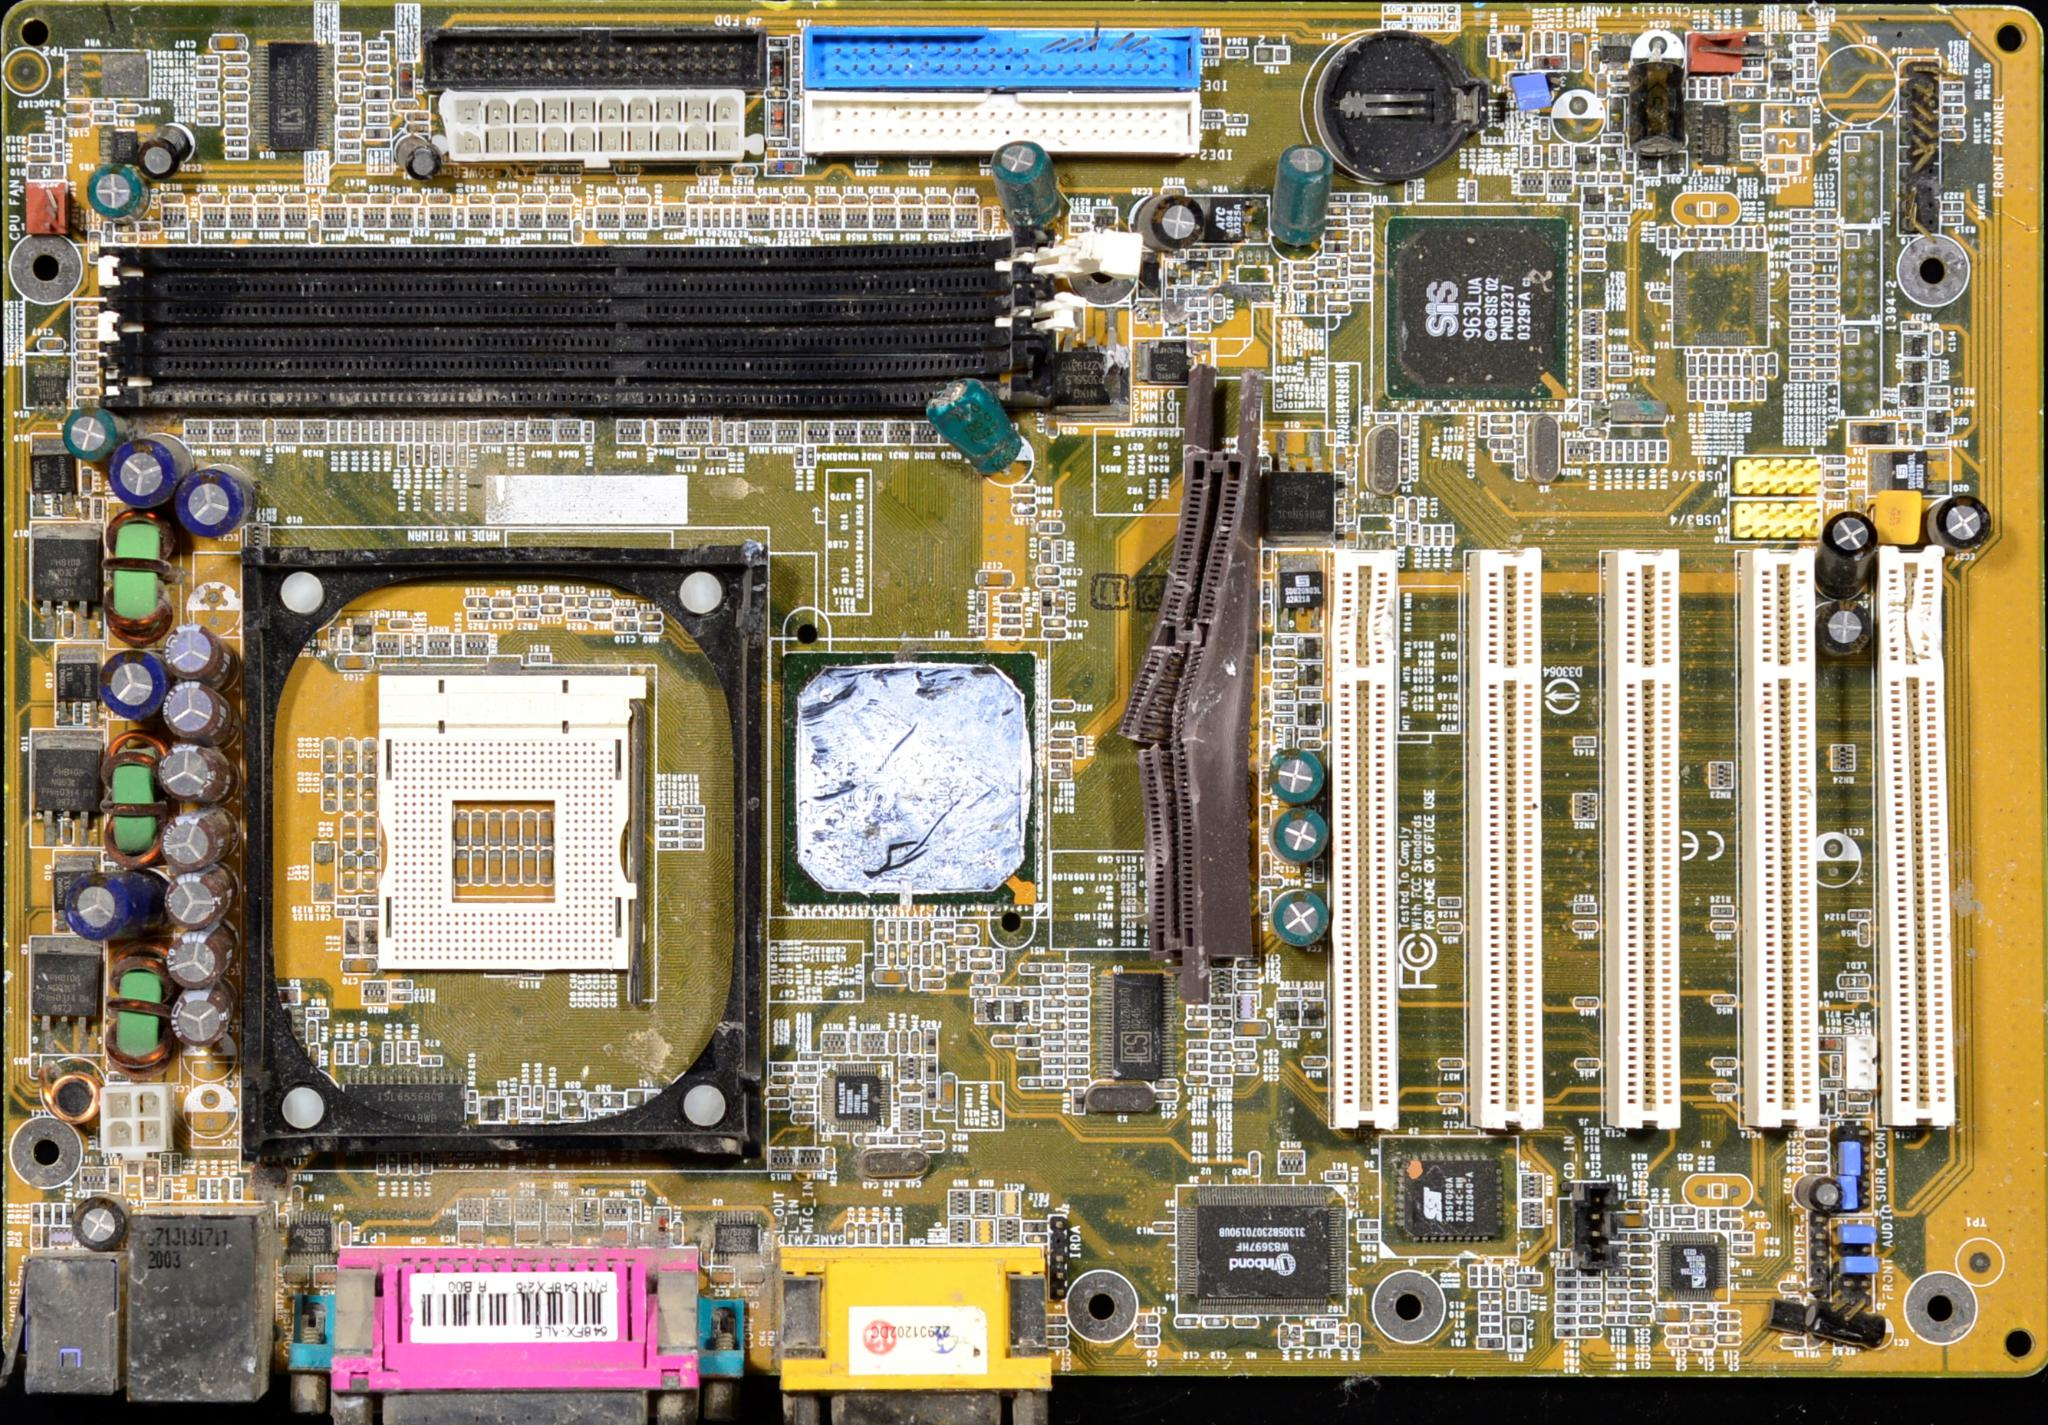Capacitor Jumper: (179, 462, 246, 546), (106, 437, 179, 507), (96, 650, 168, 719), (156, 739, 226, 801), (56, 409, 126, 470), (159, 621, 223, 681), (1270, 804, 1329, 868), (1271, 745, 1329, 806), (1271, 890, 1331, 943), (160, 683, 215, 737), (831, 1075, 885, 1117), (311, 839, 336, 899), (207, 33, 249, 51), (335, 653, 375, 672), (339, 856, 358, 890), (361, 739, 378, 775), (341, 817, 358, 851), (344, 957, 377, 974), (342, 817, 358, 853), (1654, 1307, 1690, 1322), (324, 776, 339, 811), (361, 779, 377, 814), (322, 739, 338, 773), (873, 969, 907, 983), (1234, 1021, 1268, 1035), (1609, 96, 1623, 131), (345, 776, 358, 814), (1572, 34, 1584, 70), (363, 815, 373, 854), (34, 338, 65, 350), (344, 742, 356, 773), (358, 1039, 370, 1067), (1583, 226, 1608, 240), (224, 67, 252, 79), (1323, 229, 1349, 241), (118, 104, 143, 117), (1134, 1324, 1158, 1336), (1556, 30, 1569, 53), (896, 940, 907, 966), (1804, 1139, 1830, 1150), (65, 101, 90, 112), (1632, 1290, 1654, 1302), (1134, 1336, 1159, 1347), (1057, 590, 1066, 618), (1712, 1058, 1735, 1069), (224, 104, 247, 115), (65, 117, 89, 128), (1631, 1254, 1654, 1265), (1203, 1315, 1226, 1325), (366, 64, 389, 75), (1026, 1232, 1046, 1245), (1692, 1322, 1712, 1335), (1043, 618, 1069, 627), (1438, 1058, 1460, 1069), (632, 1199, 643, 1221), (1690, 1338, 1712, 1349), (1324, 216, 1346, 227), (1327, 303, 1349, 314), (1804, 1153, 1829, 1162), (1667, 1325, 1692, 1335), (1038, 565, 1063, 574), (1695, 1311, 1715, 1322), (1349, 263, 1369, 274), (1327, 292, 1348, 303), (1544, 31, 1555, 51), (1597, 75, 1606, 98), (1805, 1117, 1829, 1126), (1629, 1268, 1653, 1277), (1629, 1279, 1653, 1288), (1172, 1318, 1200, 1325), (1717, 1335, 1740, 1344), (1646, 439, 1656, 462), (1573, 997, 1600, 1005), (1804, 1164, 1830, 1171), (224, 54, 251, 62), (1438, 923, 1460, 932), (1018, 1025, 1036, 1036), (1438, 1094, 1460, 1103), (845, 1223, 854, 1245), (1351, 230, 1360, 252), (1315, 292, 1324, 314), (1573, 921, 1598, 929), (887, 943, 895, 968), (223, 129, 247, 137), (336, 54, 361, 62), (339, 72, 364, 79), (1069, 986, 1089, 996), (993, 1035, 1013, 1044), (881, 1223, 890, 1243), (1317, 269, 1337, 278), (1293, 271, 1313, 280), (1931, 333, 1941, 353), (1273, 680, 1293, 689), (1687, 76, 1695, 100), (923, 980, 946, 988), (1710, 996, 1734, 1003), (1805, 1129, 1829, 1137), (1628, 1315, 1651, 1322), (1279, 1325, 1287, 1349), (1292, 1325, 1299, 1349), (1636, 179, 1643, 202), (1362, 230, 1369, 254), (1293, 282, 1317, 289), (1134, 1313, 1153, 1322), (367, 75, 389, 82), (227, 95, 249, 103), (1713, 1086, 1735, 1094), (1626, 1201, 1648, 1209), (1629, 1305, 1651, 1313), (1234, 1318, 1256, 1325), (1349, 254, 1371, 261), (1807, 58, 1815, 79), (926, 968, 943, 977), (876, 919, 884, 940), (1317, 1321, 1337, 1329), (1659, 442, 1667, 462), (1629, 1246, 1654, 1252), (224, 82, 247, 89), (1629, 1234, 1653, 1240), (1349, 1327, 1357, 1346), (1326, 205, 1345, 213), (1348, 207, 1371, 213), (1533, 33, 1539, 56), (1712, 924, 1732, 930), (339, 131, 359, 137), (1583, 263, 1603, 269), (1592, 51, 1598, 72), (1625, 152, 1631, 171), (1293, 263, 1315, 268), (1340, 1325, 1345, 1346), (1578, 1059, 1604, 1063)
Connector: (1877, 546, 1961, 1133), (1738, 549, 1818, 1128), (1464, 548, 1542, 1133), (1600, 548, 1676, 1133), (103, 359, 1019, 404), (1331, 551, 1402, 1126), (93, 247, 1010, 286), (98, 288, 1016, 322), (104, 328, 1016, 353), (423, 28, 766, 89)
IC: (1383, 216, 1562, 401), (1189, 1199, 1345, 1307), (1391, 1151, 1505, 1243), (1097, 972, 1175, 1078), (268, 40, 317, 149), (34, 535, 101, 604), (37, 750, 96, 815), (1667, 1241, 1715, 1294), (56, 661, 93, 700), (28, 370, 65, 406), (980, 569, 1013, 585), (942, 1073, 952, 1108), (1015, 484, 1038, 495)
Resistor Jumper: (363, 980, 388, 1005), (703, 445, 730, 459), (1857, 921, 1869, 949), (674, 445, 697, 459), (1236, 1063, 1257, 1077), (303, 1007, 330, 1017), (1488, 439, 1514, 450), (1604, 1243, 1629, 1254), (770, 1075, 794, 1086), (795, 1075, 819, 1086), (1503, 1266, 1514, 1290), (1478, 1311, 1502, 1322), (1583, 215, 1606, 226), (1813, 289, 1836, 300), (430, 443, 440, 467), (398, 443, 409, 467), (1225, 47, 1248, 58), (1050, 700, 1074, 711), (792, 445, 805, 465), (1259, 804, 1268, 831), (1276, 1030, 1298, 1041), (1066, 1031, 1088, 1042), (335, 1042, 345, 1064), (1043, 1053, 1064, 1064), (772, 1063, 794, 1073), (1720, 1220, 1741, 1231), (1478, 1266, 1489, 1288), (1609, 366, 1631, 376), (1794, 34, 1816, 45), (370, 420, 381, 442), (412, 445, 423, 467), (1052, 728, 1074, 739), (1237, 971, 1262, 980), (367, 110, 386, 123), (1022, 1221, 1047, 1231), (1813, 330, 1838, 339), (328, 418, 338, 443), (458, 443, 467, 468), (1259, 686, 1268, 711), (1698, 78, 1709, 98), (907, 921, 918, 941), (957, 935, 977, 946), (338, 93, 358, 104), (345, 1042, 356, 1063), (1581, 1290, 1601, 1301), (1478, 1291, 1499, 1302), (1046, 1325, 1066, 1336), (1668, 229, 1679, 249), (1491, 415, 1511, 426), (195, 78, 218, 87), (994, 947, 1004, 971), (973, 974, 996, 983), (792, 1087, 815, 1097), (1941, 117, 1964, 126), (1561, 145, 1570, 168), (1813, 303, 1836, 313), (1741, 355, 1751, 378), (506, 418, 515, 442), (517, 420, 526, 443), (806, 445, 815, 468), (1275, 635, 1298, 644), (1259, 647, 1268, 670), (445, 442, 453, 468), (1609, 72, 1628, 82), (1609, 84, 1631, 93), (1573, 904, 1592, 915), (196, 90, 218, 100), (1021, 963, 1040, 974), (1237, 982, 1259, 991), (1044, 997, 1066, 1007), (1043, 1010, 1064, 1019), (1018, 1049, 1040, 1058), (1209, 1052, 1231, 1061), (1066, 1055, 1088, 1064), (196, 103, 218, 112), (1209, 1075, 1231, 1084), (1849, 1103, 1867, 1114), (339, 106, 358, 117), (792, 1114, 814, 1123), (232, 1178, 241, 1199), (209, 1178, 218, 1199), (1357, 1220, 1379, 1229), (1606, 1269, 1628, 1279), (1944, 129, 1966, 138), (1740, 135, 1762, 145), (1533, 146, 1542, 168), (1600, 173, 1622, 182), (1349, 216, 1371, 226), (1813, 275, 1835, 285), (1790, 331, 1811, 341), (1609, 352, 1631, 361), (339, 420, 349, 442), (1824, 490, 1846, 499), (1394, 523, 1404, 544), (1273, 691, 1295, 700), (889, 1030, 896, 1055), (1040, 1045, 1064, 1053), (825, 1147, 833, 1171), (910, 943, 920, 963), (998, 986, 1018, 996), (1847, 989, 1867, 999), (1068, 997, 1088, 1007), (1043, 1022, 1063, 1031), (1186, 1039, 1206, 1049), (1830, 1056, 1839, 1077), (769, 1100, 789, 1109), (794, 1101, 814, 1111), (856, 1224, 865, 1245), (867, 1224, 876, 1245), (1489, 1268, 1499, 1288), (1466, 180, 1475, 201), (1745, 227, 1754, 247), (1657, 229, 1667, 249), (383, 422, 392, 442), (1924, 434, 1944, 443), (1824, 454, 1844, 464), (1796, 47, 1816, 56), (1432, 524, 1441, 544), (367, 51, 388, 61), (1261, 720, 1270, 741), (960, 947, 971, 965), (1939, 81, 1962, 89), (1438, 898, 1461, 905), (934, 943, 942, 966), (910, 968, 918, 991), (1043, 975, 1066, 983), (910, 1028, 918, 1052), (900, 1030, 907, 1053), (1066, 1045, 1089, 1053), (769, 1089, 792, 1097), (199, 1176, 207, 1199), (1478, 1302, 1502, 1310), (1790, 291, 1813, 299), (1731, 378, 1738, 401), (1925, 387, 1948, 395), (361, 420, 369, 443), (352, 420, 359, 443), (468, 422, 476, 445), (1849, 909, 1867, 918), (1068, 1010, 1086, 1019), (1068, 1021, 1086, 1030), (1673, 1217, 1692, 1226), (1047, 1336, 1066, 1346), (1516, 415, 1525, 434), (1636, 442, 1645, 460), (1603, 442, 1612, 460), (1444, 526, 1454, 544), (1075, 737, 1085, 756), (887, 921, 895, 943), (932, 932, 954, 940), (876, 941, 884, 963), (1041, 1035, 1063, 1042), (1234, 1050, 1256, 1058), (93, 103, 115, 110), (1849, 1094, 1871, 1101), (1836, 1091, 1844, 1112), (93, 115, 115, 123), (1660, 1204, 1668, 1226), (1732, 1232, 1754, 1240), (1740, 124, 1762, 132), (226, 140, 247, 148), (1741, 151, 1763, 159), (1550, 145, 1558, 166), (1575, 174, 1597, 182), (1405, 182, 1413, 204), (1790, 264, 1811, 272), (1710, 355, 1718, 376), (1271, 649, 1293, 656), (1273, 661, 1295, 669), (1049, 753, 1071, 761), (1942, 106, 1969, 112), (1927, 398, 1953, 404), (1709, 1212, 1718, 1229), (1609, 1234, 1626, 1243), (1583, 1269, 1600, 1279), (1710, 78, 1718, 98), (1262, 879, 1282, 887), (1712, 907, 1732, 915), (923, 944, 931, 965), (1237, 960, 1257, 968), (970, 961, 990, 969), (1044, 963, 1064, 971), (1068, 965, 1088, 972), (1068, 975, 1088, 983), (1043, 986, 1063, 994), (367, 103, 388, 110), (795, 1064, 815, 1072), (893, 1223, 901, 1243), (1357, 1234, 1377, 1241), (1606, 1255, 1626, 1263), (1555, 1291, 1575, 1299), (338, 140, 358, 148), (1279, 263, 1287, 283), (1349, 292, 1369, 300), (1791, 317, 1811, 325), (1720, 356, 1727, 376), (1698, 380, 1706, 400), (1720, 381, 1727, 401), (338, 42, 358, 50), (1273, 670, 1293, 678), (1273, 703, 1293, 711), (1050, 772, 1075, 778), (854, 1134, 879, 1140), (1261, 769, 1267, 792), (1261, 853, 1267, 876), (1261, 888, 1267, 912), (898, 921, 906, 940), (920, 921, 928, 940), (887, 941, 893, 965), (948, 949, 954, 972), (1021, 988, 1040, 996), (1211, 1031, 1229, 1039), (1234, 1041, 1253, 1049), (1187, 1061, 1206, 1069), (881, 1136, 900, 1143), (1698, 1209, 1706, 1227), (1556, 1269, 1575, 1277), (1608, 1280, 1626, 1288), (1046, 1316, 1064, 1324), (1609, 216, 1628, 224), (367, 40, 386, 48), (1514, 437, 1522, 456), (1824, 481, 1847, 487), (1424, 526, 1432, 544), (971, 988, 993, 994), (850, 1031, 856, 1053), (1734, 227, 1740, 249), (1902, 411, 1924, 417), (1516, 459, 1522, 481), (1397, 498, 1404, 520), (1941, 95, 1961, 101), (921, 1142, 942, 1148), (1471, 1266, 1477, 1287), (1508, 1290, 1514, 1310), (1555, 1307, 1575, 1313), (1522, 146, 1528, 166), (1743, 380, 1749, 400), (1796, 58, 1802, 78), (1273, 717, 1293, 723), (1052, 742, 1072, 748), (1211, 1042, 1229, 1049), (1351, 280, 1369, 286), (974, 951, 991, 957), (1614, 443, 1620, 460), (1050, 761, 1068, 767), (1556, 1319, 1578, 1324), (226, 118, 246, 123), (1556, 1282, 1576, 1287), (1262, 744, 1267, 764), (1581, 1280, 1611, 1283), (934, 921, 952, 926), (1821, 1080, 1849, 1083), (901, 1136, 920, 1140), (1580, 1316, 1598, 1321), (959, 926, 976, 930), (1033, 1000, 1036, 1019), (921, 1136, 942, 1137)
Transistor: (1866, 450, 1950, 496), (341, 921, 361, 954), (363, 923, 378, 952)
